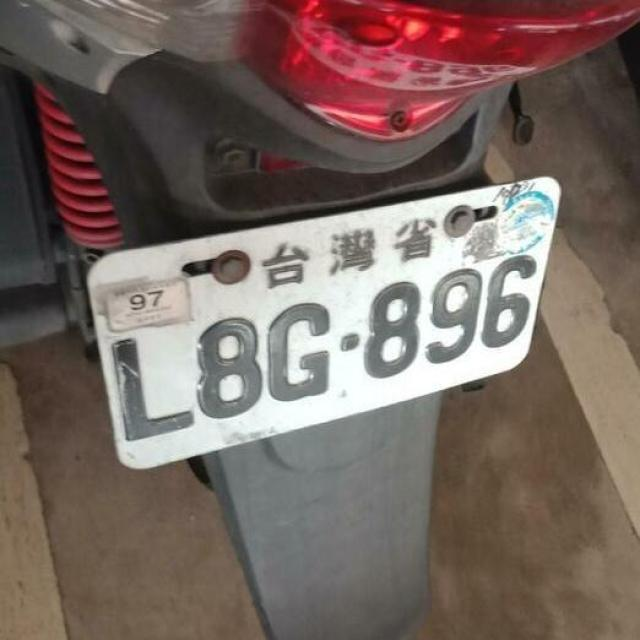W: (73, 157, 558, 489)
